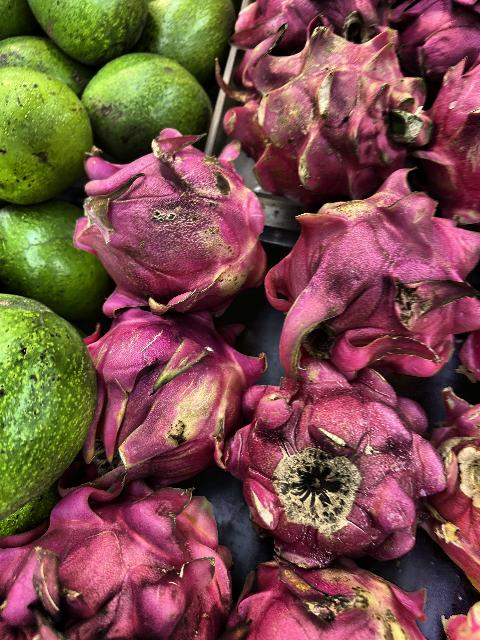buah-naga-belum-matang: (262, 173, 480, 365), (217, 12, 430, 188), (76, 138, 276, 294), (82, 297, 248, 459), (228, 538, 430, 640)
buah-naga-matang: (226, 368, 436, 554), (35, 470, 224, 640), (420, 59, 480, 210), (434, 378, 480, 570), (382, 1, 480, 72), (248, 1, 388, 32)
